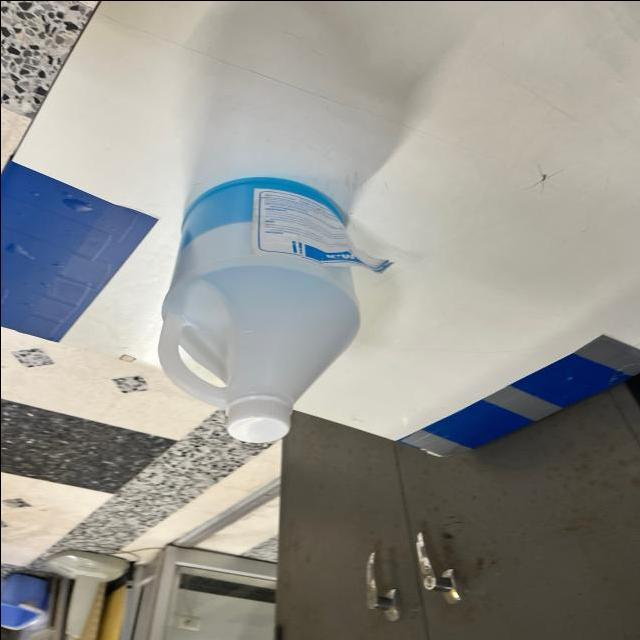HDPE Plastic: (154, 159, 362, 446)
